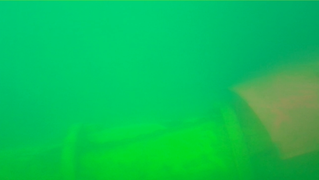leak: (224, 66, 319, 160)
pipe: (1, 101, 319, 180)
